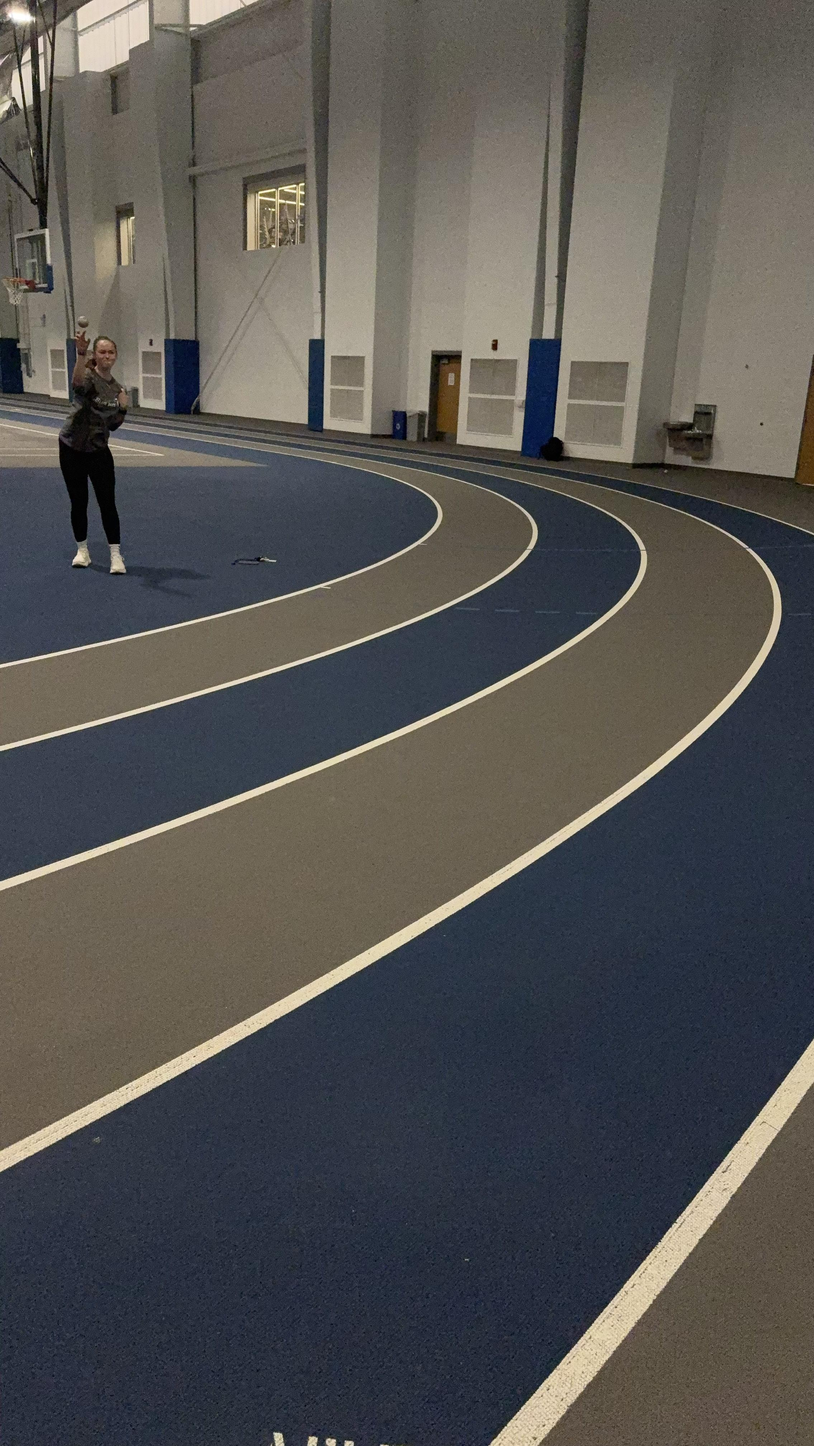Baseball: (76, 314, 91, 329)
